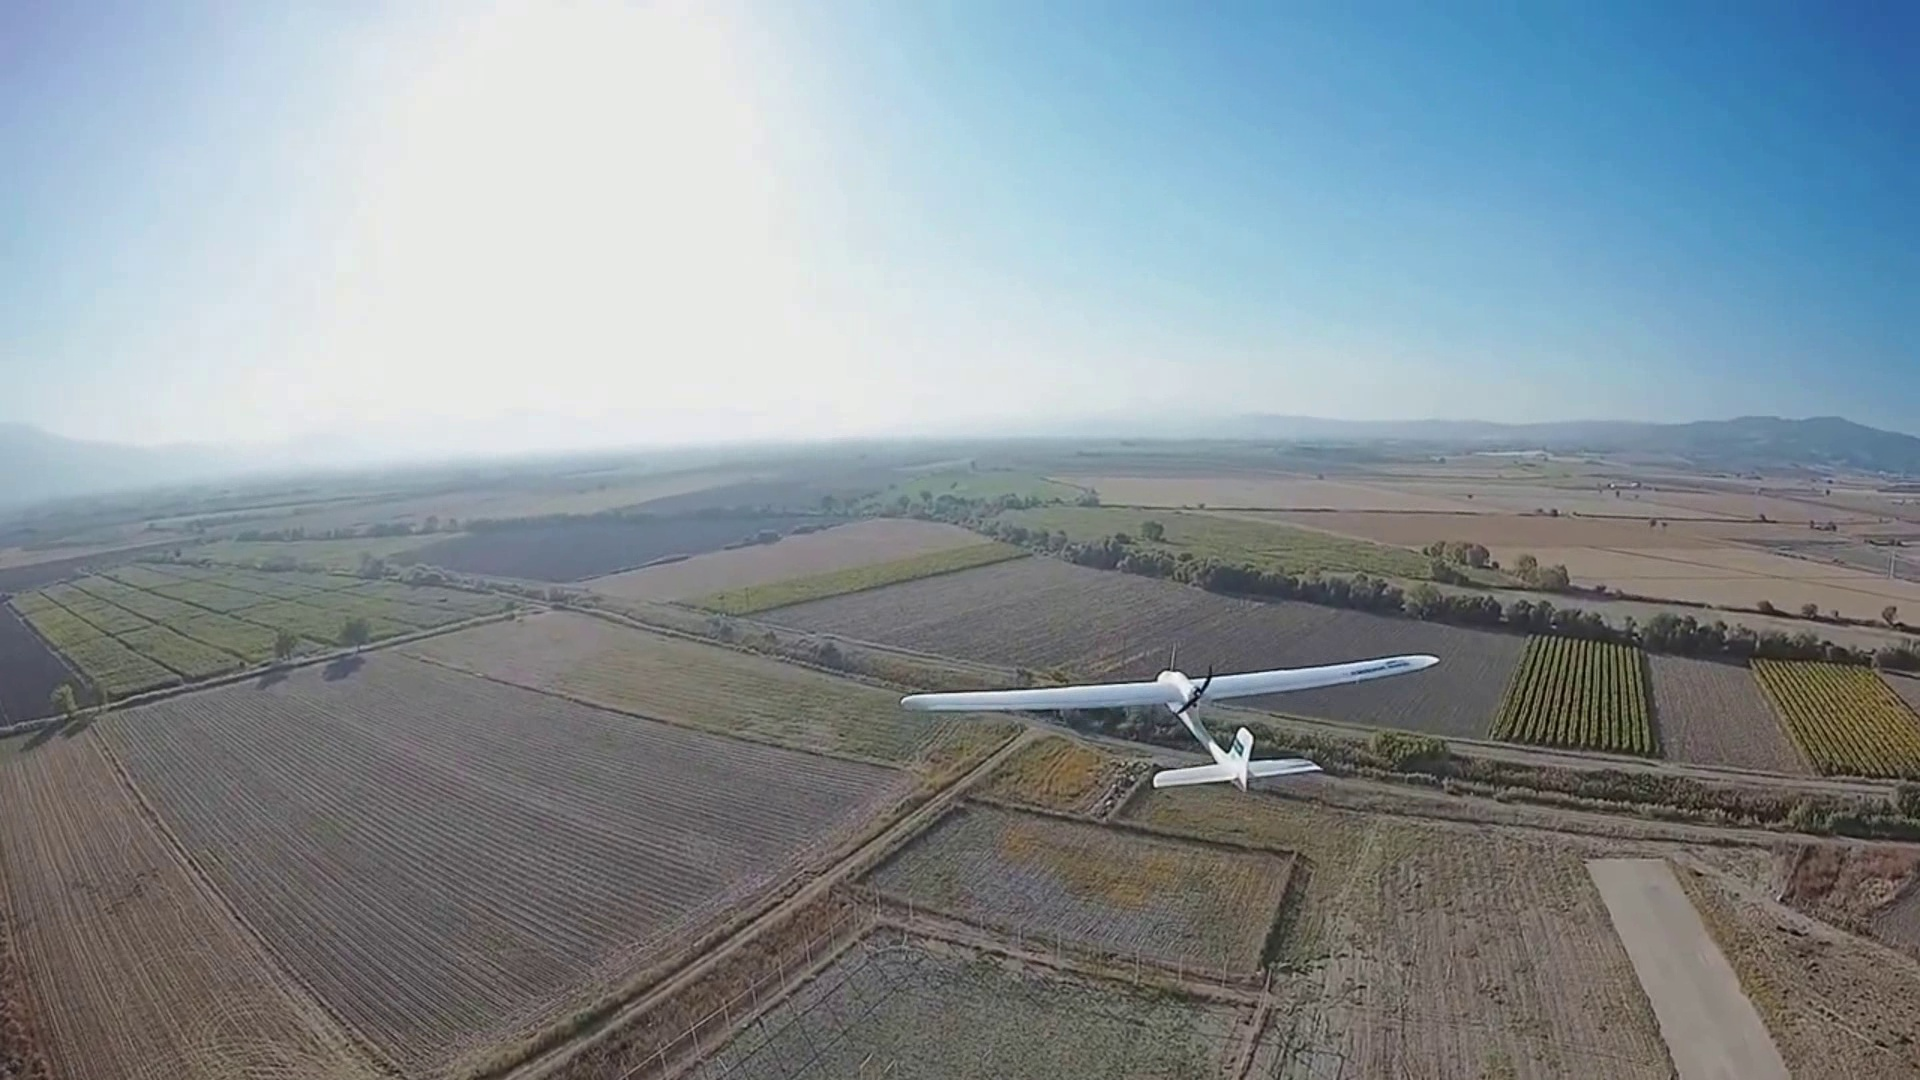airplane: (895, 655, 1443, 794)
